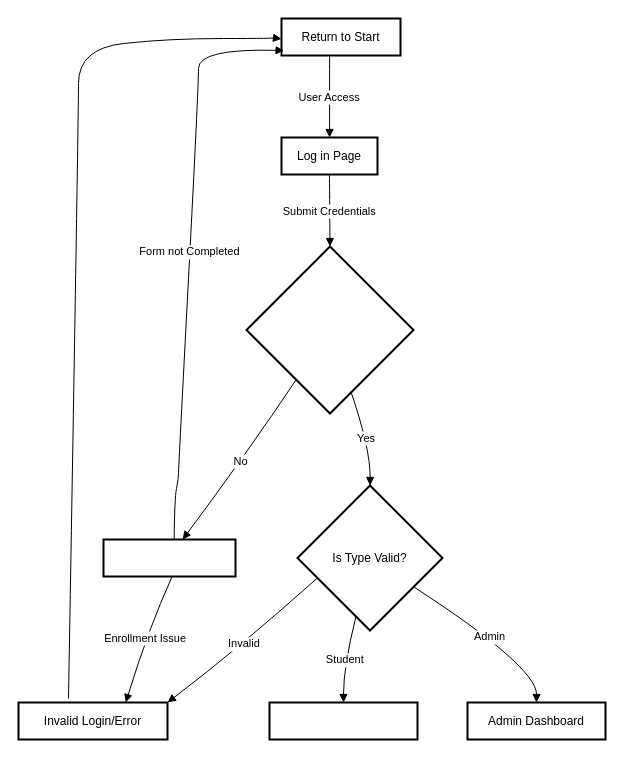
The diagram is 623 pixels wide and 757 high, and some of its shapes have lost their labels. The box of each missing label's shape, as (x1, y1, x2, y2) in pixels:
Enrollment Form: (102, 538, 236, 577)
Is User Enrolled?: (245, 245, 414, 414)
Student Dashboard: (268, 701, 418, 740)
